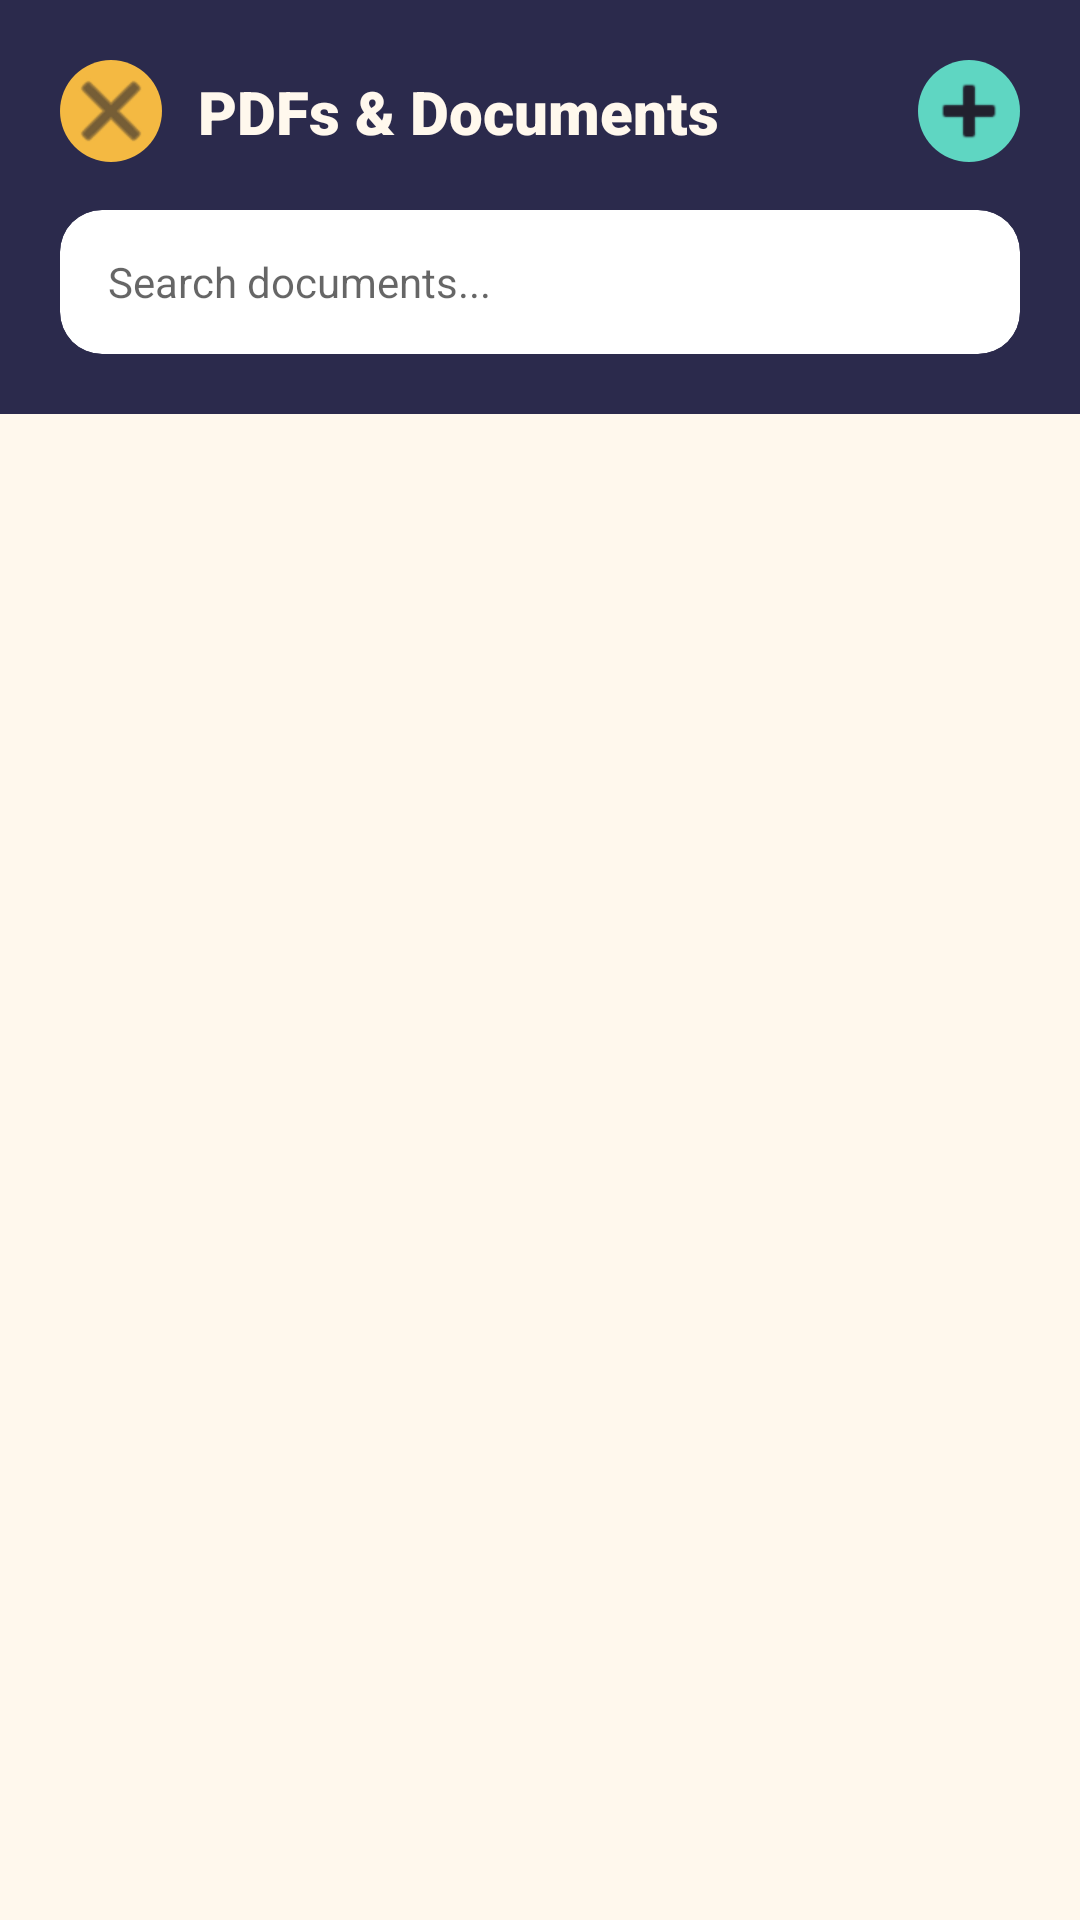

Named icons in this screenshot (1080x1920) and their bounding boxes, (x1, y1, x2, y2):
Import document: (918, 60, 1020, 162)
